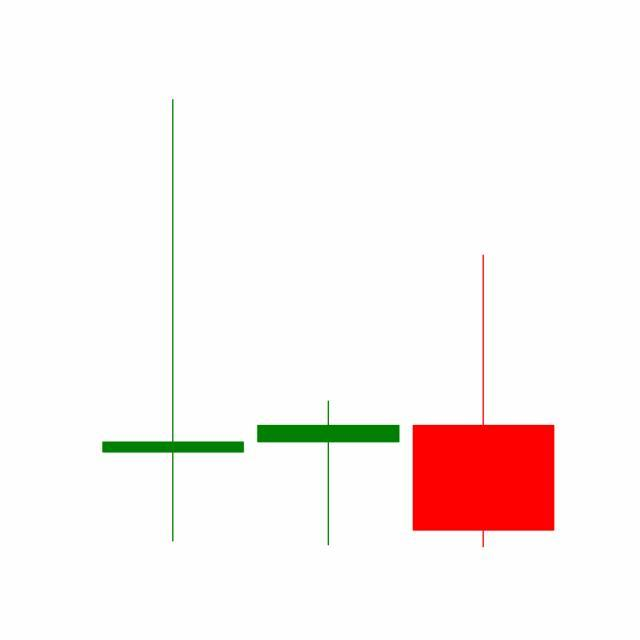Spinning Top: (250, 400, 407, 548)
